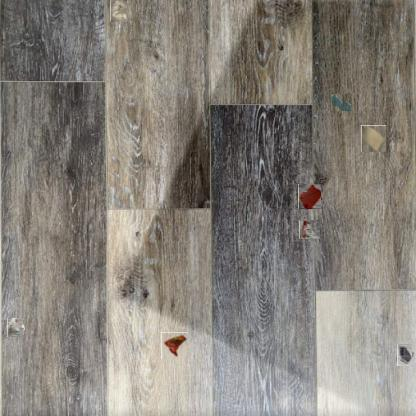dirty: (161, 332, 188, 359), (361, 125, 386, 152), (299, 219, 320, 239), (110, 0, 127, 22), (396, 346, 414, 365), (6, 319, 23, 336)
liquid: (298, 184, 322, 209), (330, 93, 352, 111)
